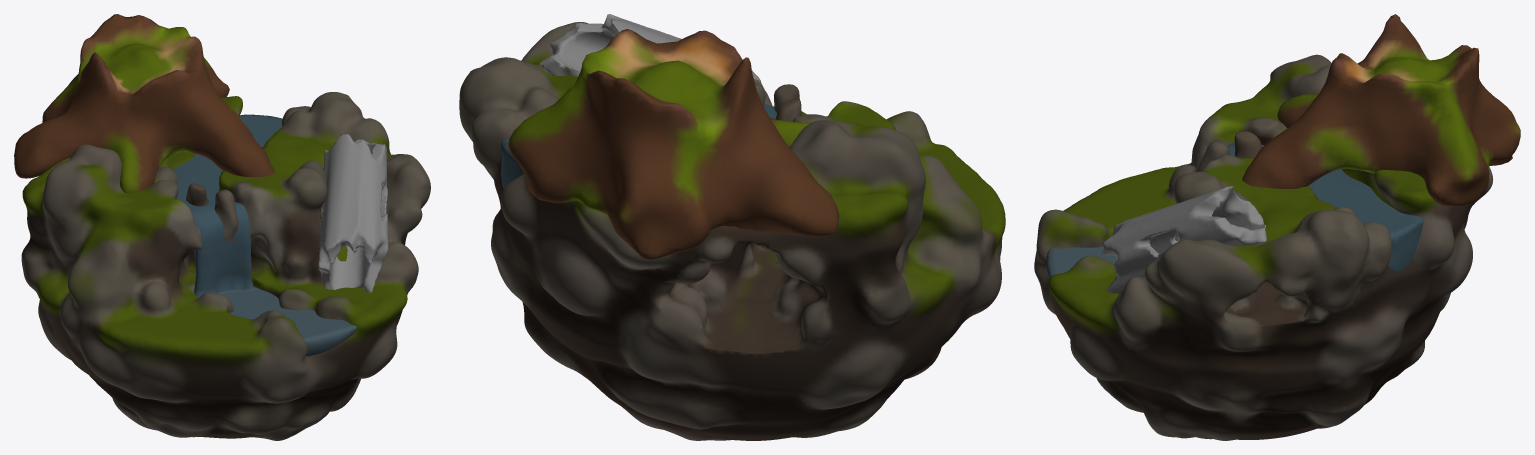
Rendered from blockout v2.fbx.
3 renders of one model, left to right at view 1: azimuth 30°, elevation 25°; view 2: azimuth 150°, elevation 25°; view 3: azimuth 270°, elevation 25°, orthographic. The views are drawn at different scales.
Visible parts, largest first — view 1: UMesh_PolySphere1, UMesh_PolySphere1_copy1, UMesh_PolySphere1_copy2, UMesh_PolySphere1_copy3; view 2: UMesh_PolySphere1, UMesh_PolySphere1_copy1, UMesh_PolySphere1_copy3, UMesh_PolySphere1_copy2; view 3: UMesh_PolySphere1, UMesh_PolySphere1_copy1, UMesh_PolySphere1_copy3, UMesh_PolySphere1_copy2.
Boxes of the visible parts, x1,y1,x2,y2 form: UMesh_PolySphere1: (21,92,430,440); UMesh_PolySphere1_copy1: (14,14,274,193); UMesh_PolySphere1_copy2: (173,114,356,356); UMesh_PolySphere1_copy3: (318,133,388,292); UMesh_PolySphere1: (459,22,1005,440); UMesh_PolySphere1_copy1: (508,29,839,259); UMesh_PolySphere1_copy3: (539,14,761,82); UMesh_PolySphere1_copy2: (500,104,776,188); UMesh_PolySphere1: (1034,54,1493,440); UMesh_PolySphere1_copy1: (1242,14,1520,206); UMesh_PolySphere1_copy3: (1101,186,1267,293); UMesh_PolySphere1_copy2: (1046,143,1423,278).
Bounding box in the file's own units: 1.38 × 1.27 × 1.51.
